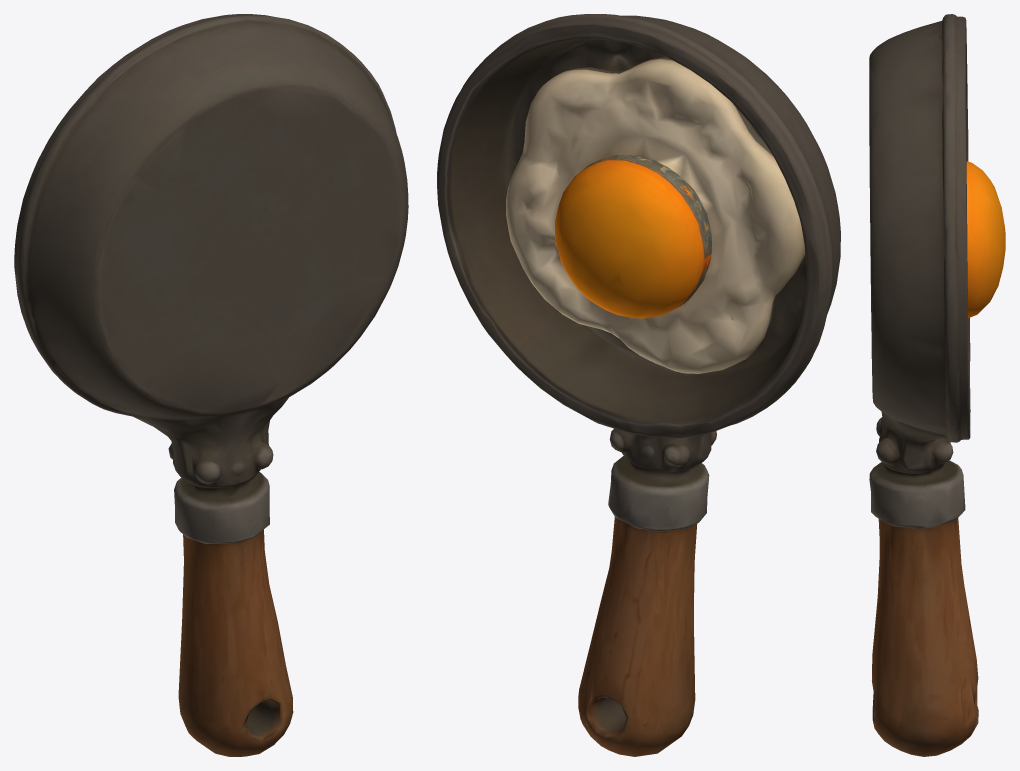
Rendered from tamago_pan.glb.
3 renders of one model, left to right at view 1: azimuth 30°, elevation 25°; view 2: azimuth 150°, elevation 25°; view 3: azimuth 270°, elevation 25°, orthographic. The views are drawn at different scales.
Parts seen in each view (by area): view 1: tripo_node_c64754ca-457b-4f43-bba8-220278d7e1c5; view 2: tripo_node_c64754ca-457b-4f43-bba8-220278d7e1c5; view 3: tripo_node_c64754ca-457b-4f43-bba8-220278d7e1c5.
Boxes of the visible parts, x1,y1,x2,y2 form: tripo_node_c64754ca-457b-4f43-bba8-220278d7e1c5: (14, 14, 408, 756); tripo_node_c64754ca-457b-4f43-bba8-220278d7e1c5: (437, 14, 840, 756); tripo_node_c64754ca-457b-4f43-bba8-220278d7e1c5: (869, 14, 1005, 756).
Size of the model in its own units: 0.5484 by 1 by 0.1743.
Materials: 1 (1 with a texture image).
